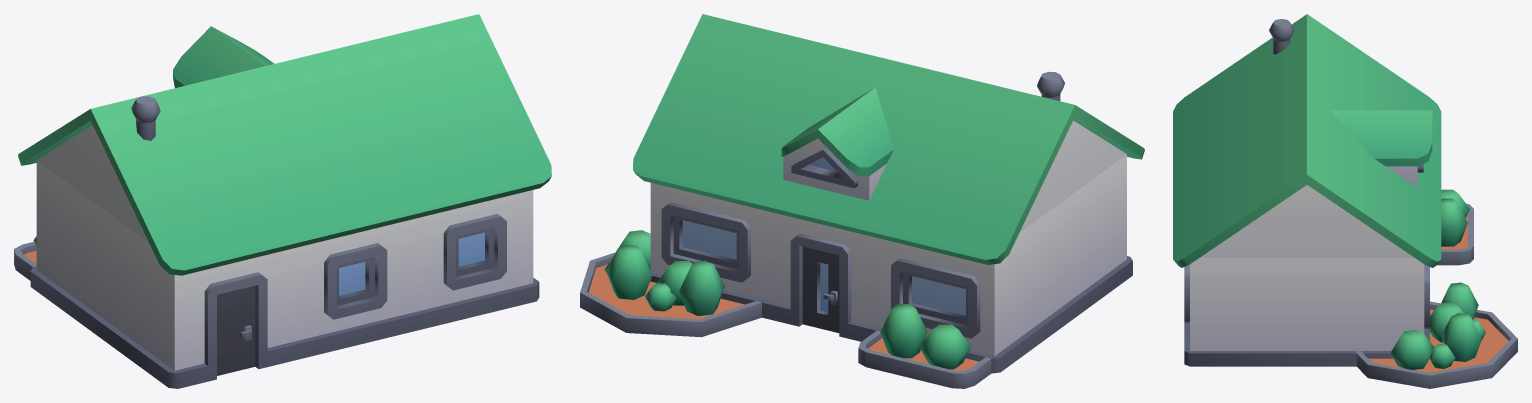
File: house-g.glb
3 views of the same model, side by side, from view 1: azimuth 30°, elevation 25°; view 2: azimuth 150°, elevation 25°; view 3: azimuth 270°, elevation 25° (orthographic). The views are drawn at different scales.
Visible parts, largest first — view 1: building-type-g; view 2: building-type-g; view 3: building-type-g.
Boxes of the visible parts, box(x1,y1,x2,y2) form: building-type-g: box(14, 14, 551, 388); building-type-g: box(580, 14, 1144, 388); building-type-g: box(1173, 14, 1517, 388).
Size of the model in its own units: 1.45 by 0.7683 by 1.18.
Materials: 1 (1 with a texture image).
